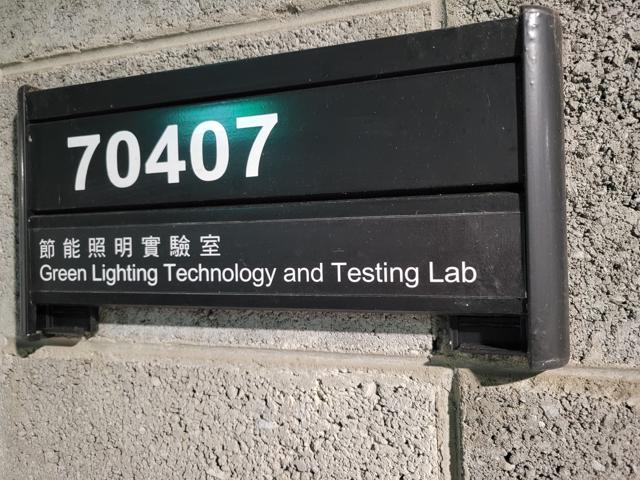doorplate: (4, 4, 575, 380)
